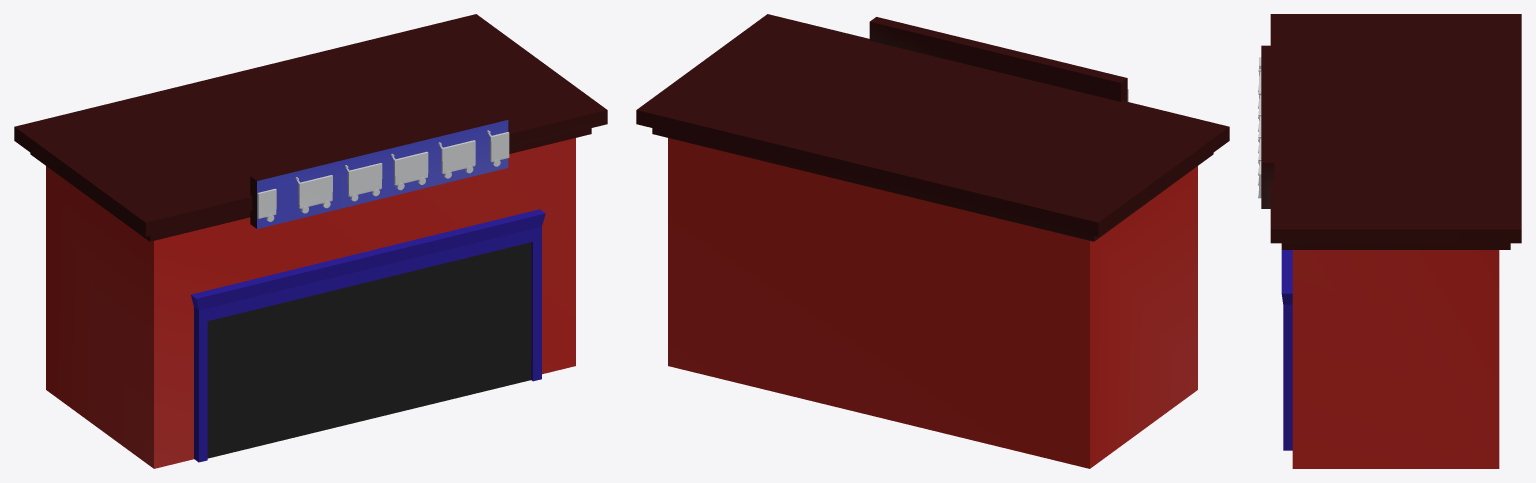
Rendered from mercado.fbx.
3 views of the same model, side by side, from view 1: azimuth 30°, elevation 25°; view 2: azimuth 150°, elevation 25°; view 3: azimuth 270°, elevation 25° (orthographic). The views are drawn at different scales.
Visible parts, largest first — view 1: mercado; view 2: mercado; view 3: mercado.
Part boxes in pixels (x1,y1,x2,y2): mercado: (14,14,607,468); mercado: (636,14,1229,468); mercado: (1258,14,1521,468).
Bounding box in the file's own units: 634 × 365 × 327.
